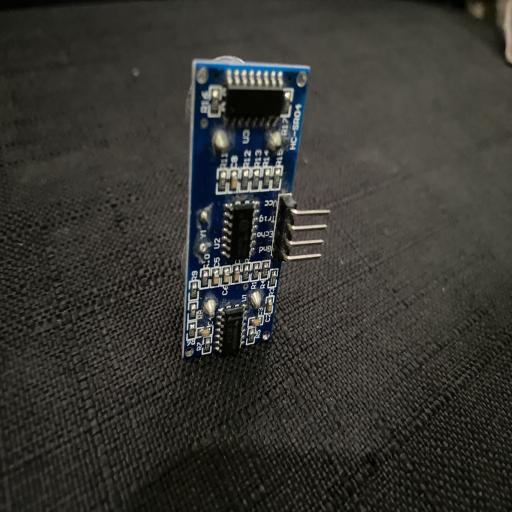Ultrasonic Sensor: (181, 53, 331, 360)
